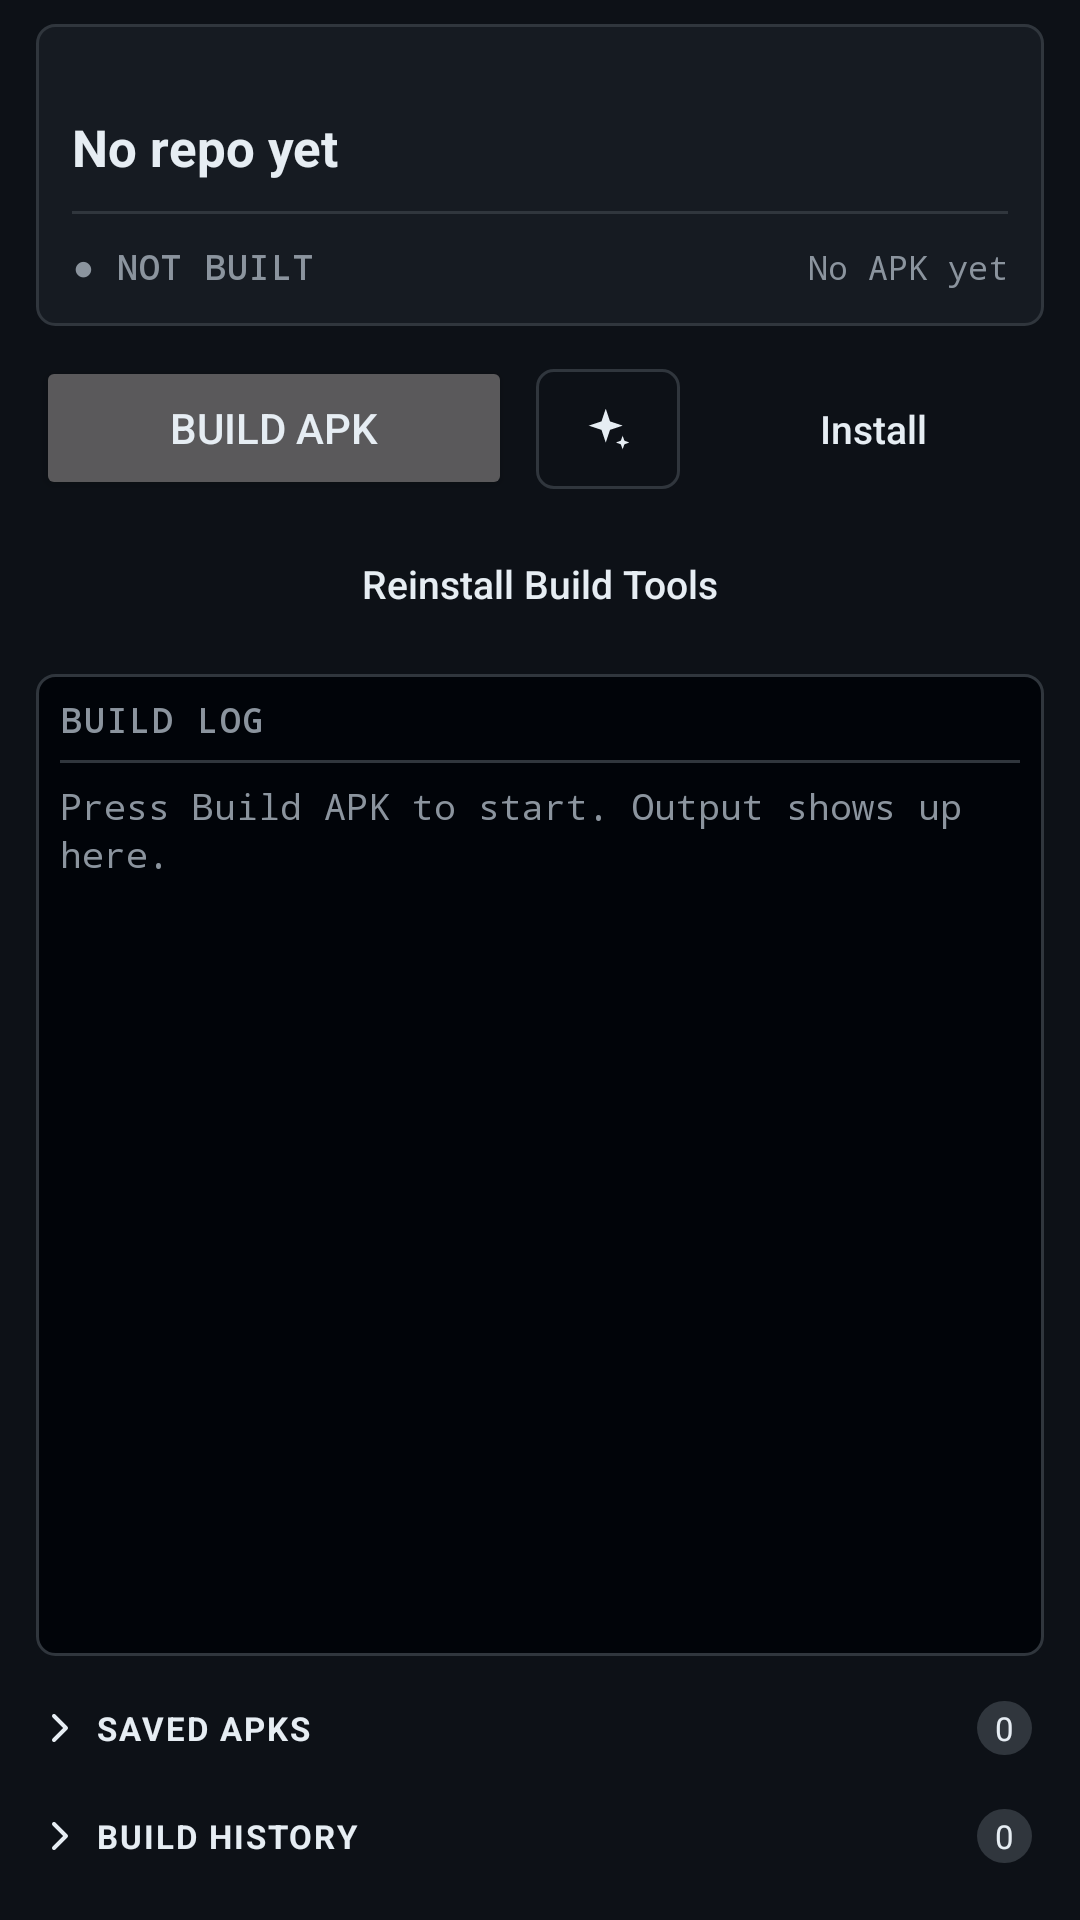

Screen size 1080 x 1920. Icon name, then its box in pixels as bbox=(x1, y1, x2, y2):
Revise: bbox=(536, 369, 680, 489)
